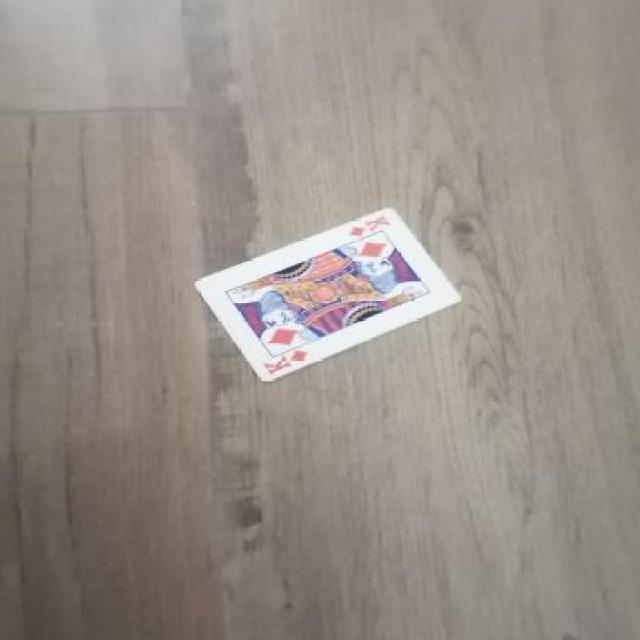KD: (258, 349, 327, 382), (344, 208, 396, 247)
